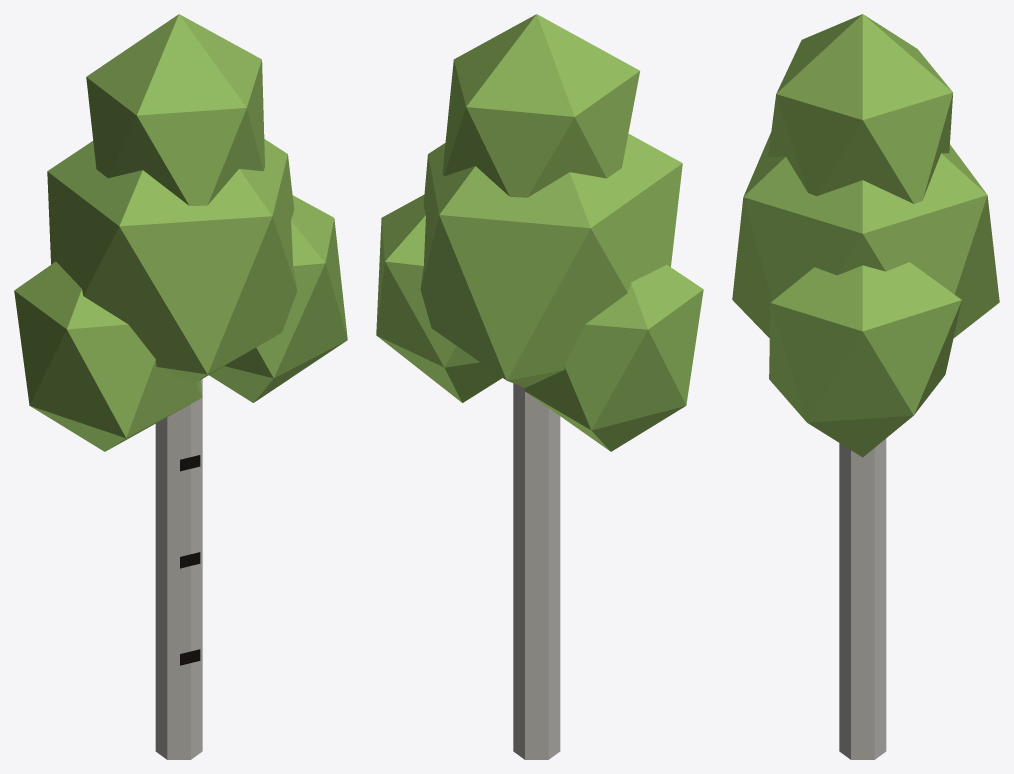
Rendered from birch.glb.
The picture shows the model from 3 angles, left to right: view 1: azimuth 30°, elevation 25°; view 2: azimuth 150°, elevation 25°; view 3: azimuth 270°, elevation 25°; orthographic projection.
Parts seen in each view (by area): view 1: prop_birch; view 2: prop_birch; view 3: prop_birch.
Part boxes in pixels (x1,y1,x2,y2): prop_birch: (14, 14, 347, 759); prop_birch: (376, 14, 703, 759); prop_birch: (732, 14, 999, 759).
Bounding box in the file's own units: 0.3284 × 0.759 × 0.2496.
